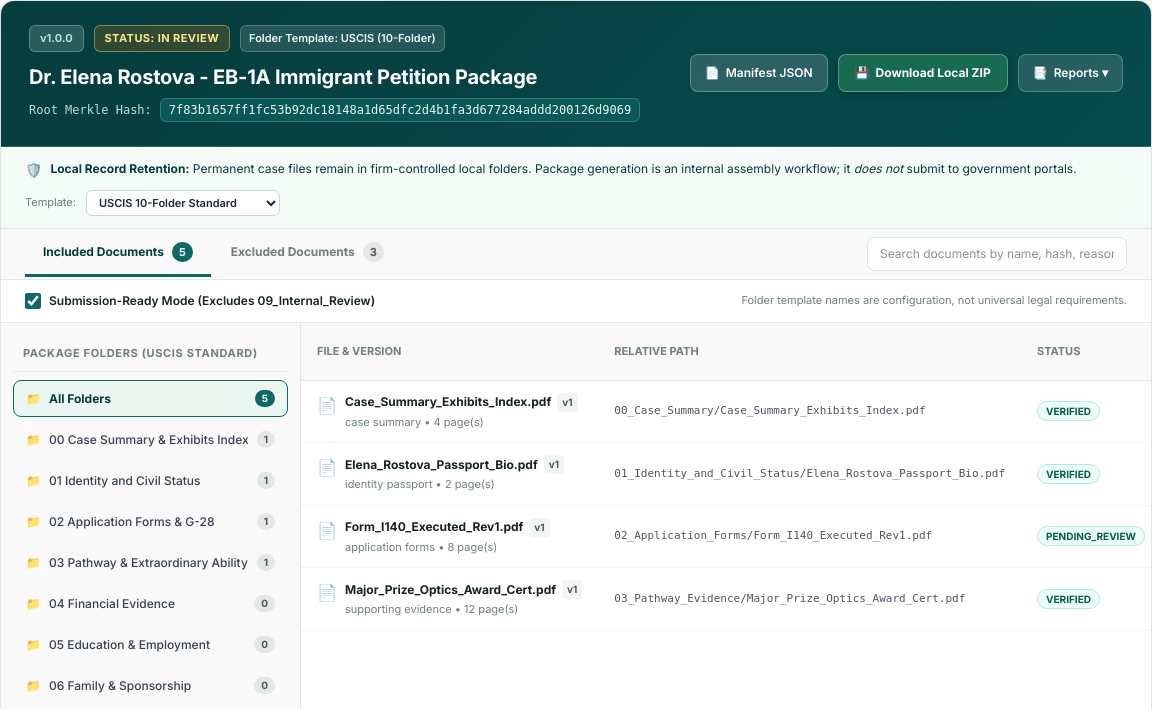
Phase 7 — Package Assembly and Local-Folder Workflow (Frontend) › renders local ZIP and interim multi-format reports options
Expected: the button with test id "download-local-zip-button" is shown, [838,54,1008,92]
# Reports menu
What coordinates should you click on to do the following:
click the button with test id "interim-reports-menu-button"
I would click on:
 (1070, 73)
Its box is [1018,54,1123,92].
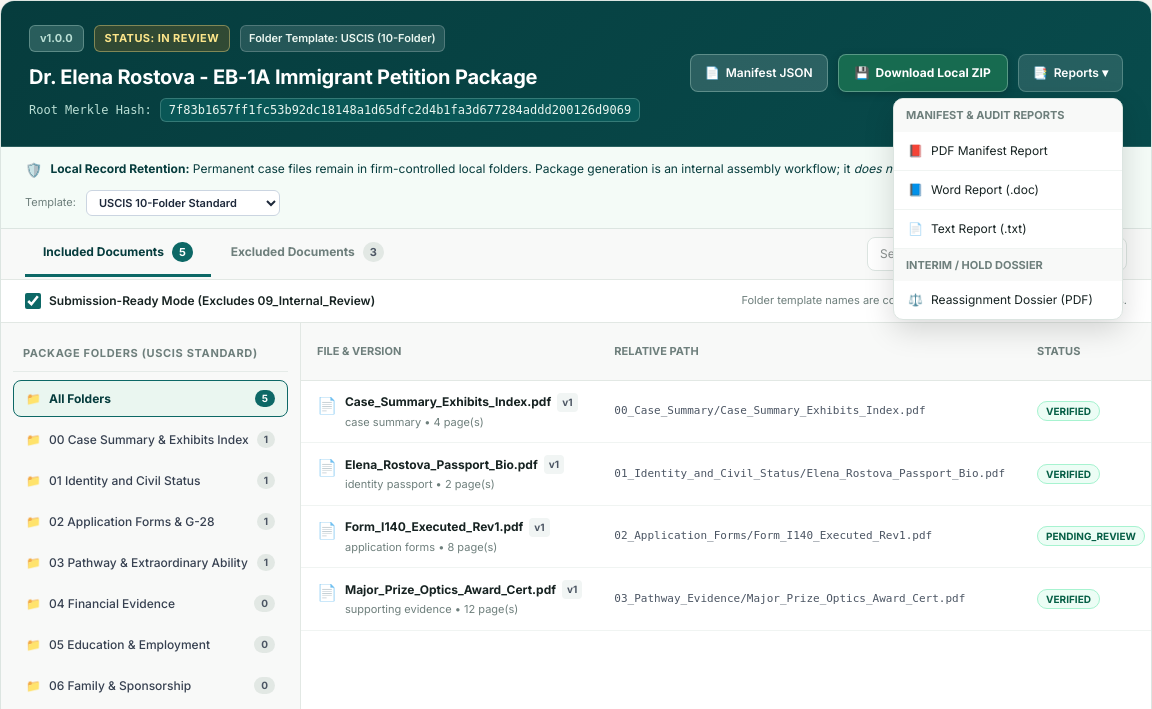
Result: the button "📕 PDF Manifest Report" is shown at [894,132,1122,171]
Result: the button "📘 Word Report (.doc)" is shown at [894,171,1122,210]
Result: the button "📄 Text Report (.txt)" is shown at [894,210,1122,249]
